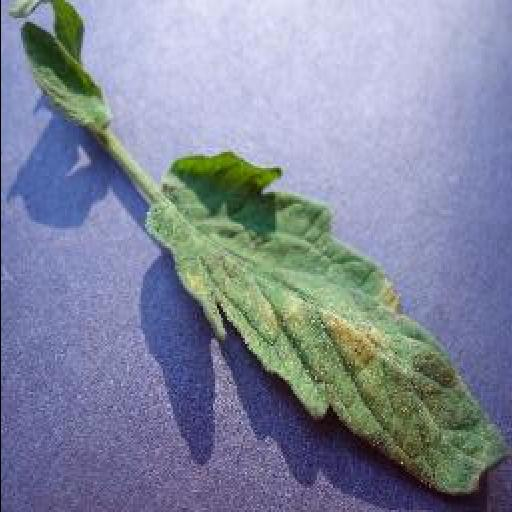disease_tomato: (142, 152, 512, 498)
